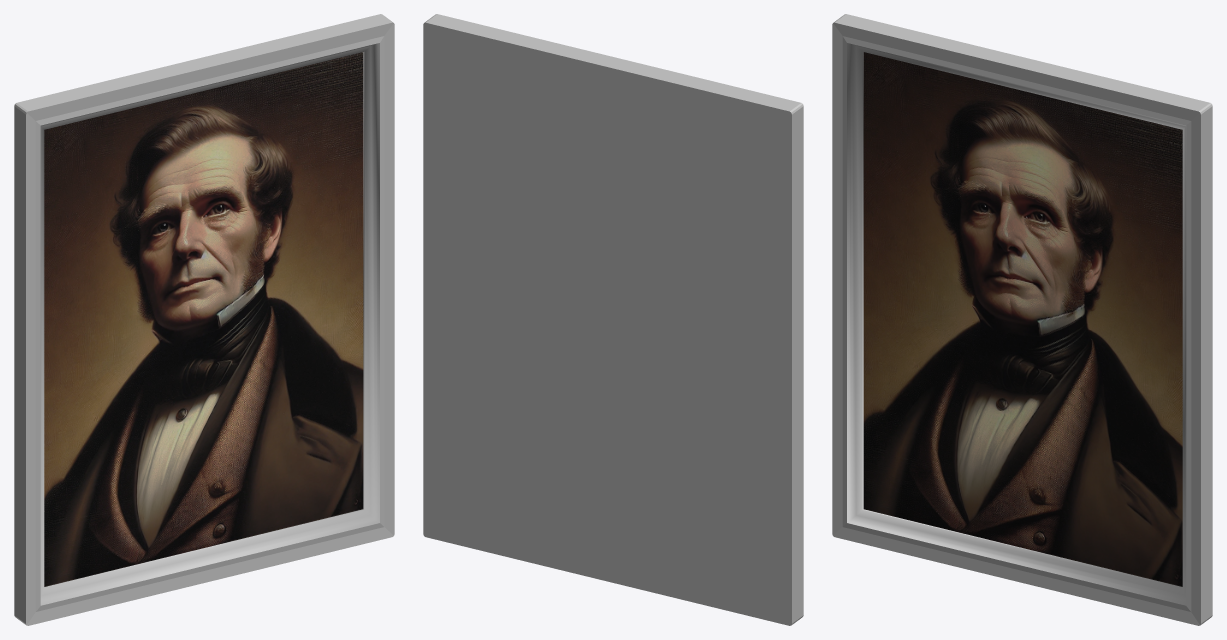
File: painting3.fbx
3 renders of one model, left to right at view 1: azimuth 30°, elevation 25°; view 2: azimuth 150°, elevation 25°; view 3: azimuth 330°, elevation 25°, orthographic.
Parts seen in each view (by area): view 1: painting3; view 2: painting3; view 3: painting3.
Boxes of the visible parts, x1,y1,x2,y2 form: painting3: (14, 14, 394, 625); painting3: (423, 14, 803, 625); painting3: (832, 14, 1212, 625).
Size of the model in its own units: 90 by 120 by 5.
